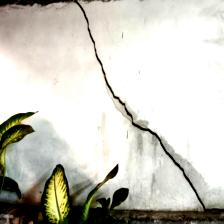High: (62, 1, 213, 212)
